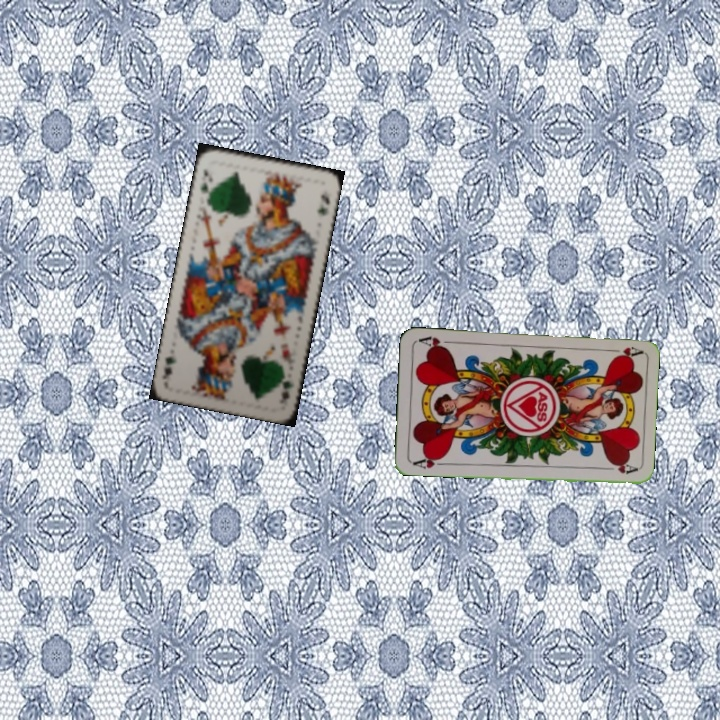GK: (275, 367, 294, 408), (196, 164, 215, 201)
HA: (409, 452, 449, 471), (603, 343, 643, 360)
